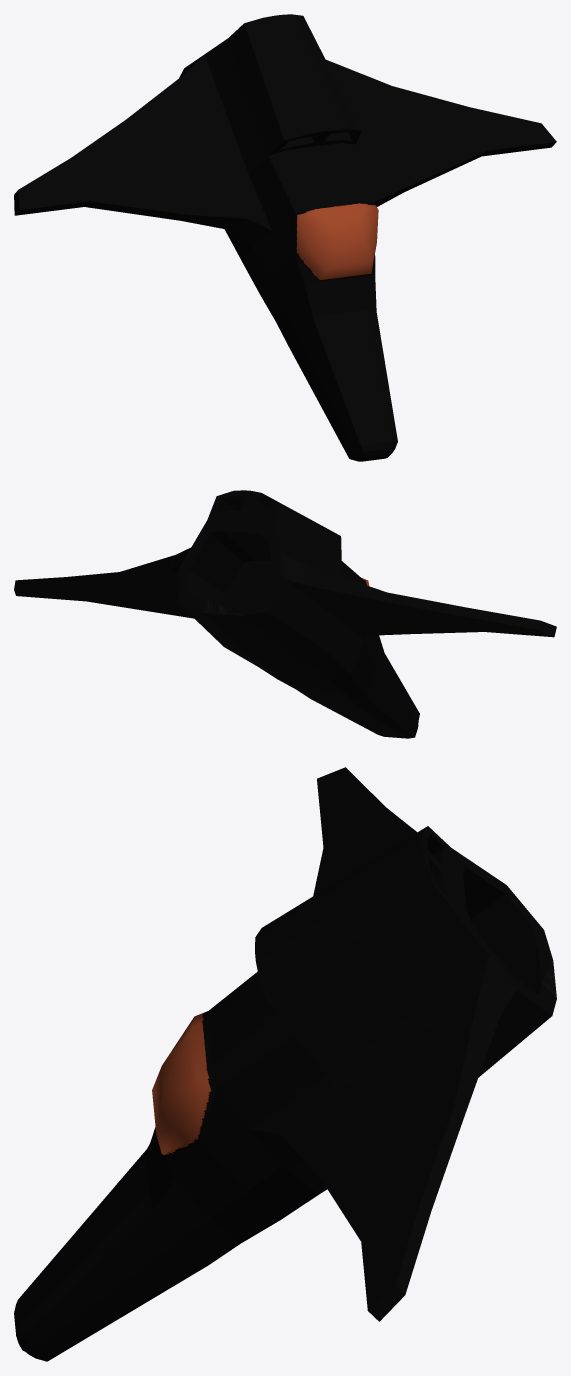
File: Spaceship4.fbx
3 views of the same model, one above another, from view 1: azimuth 30°, elevation 25°; view 2: azimuth 150°, elevation 25°; view 3: azimuth 270°, elevation 25° (orthographic). The views are drawn at different scales.
Parts seen in each view (by area): view 1: node_id7 (×2); view 2: node_id7; view 3: node_id7 (×2).
Boxes of the visible parts, x1,y1,x2,y2 form: node_id7 (×2): (14, 14, 556, 461); node_id7: (14, 490, 556, 738); node_id7 (×2): (14, 767, 556, 1361).
Size of the model in its own units: 0.5076 by 0.3031 by 0.2824.
Materials: 2 (2 with a texture image).
